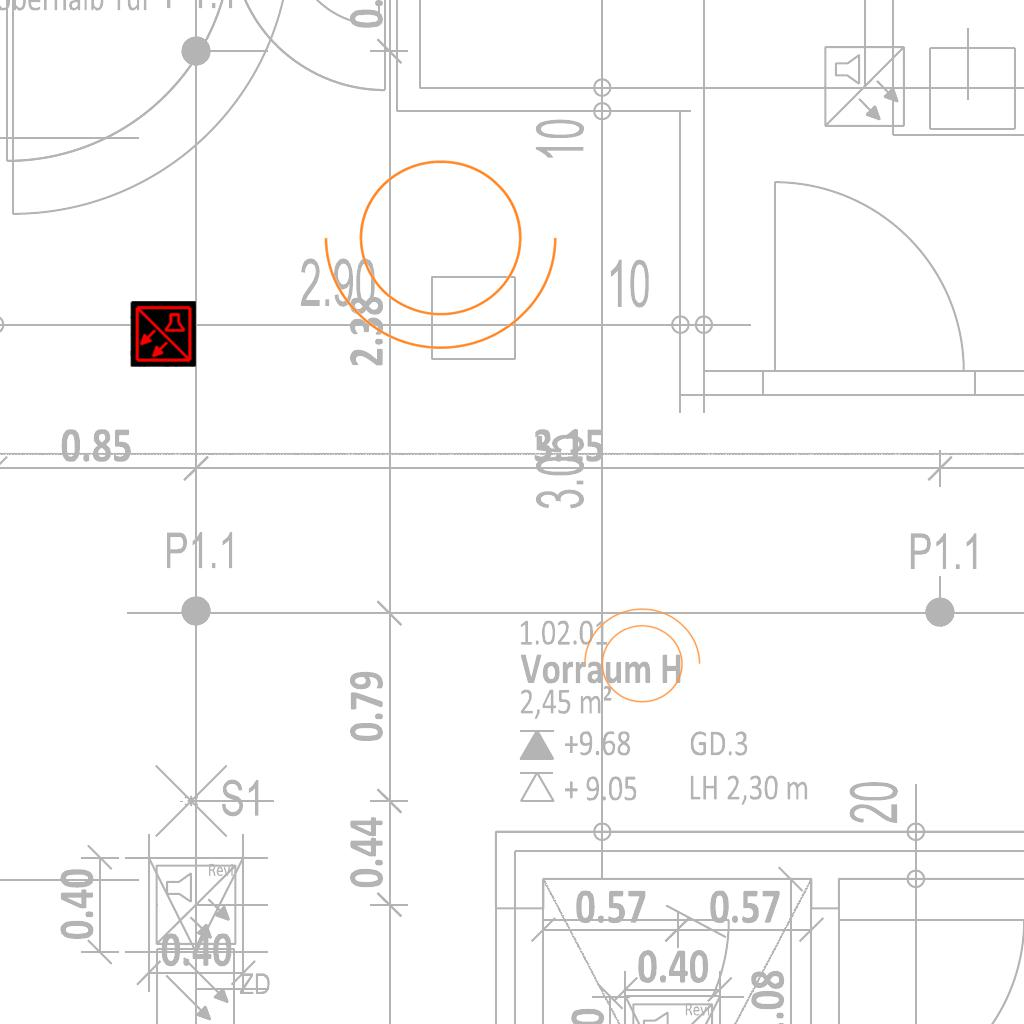OKW_Multisensormelder_(Kombination_optischer_Rauch-Kahlenmonoxid_Waerme-Melder): (130, 301, 196, 367)
Scheinwerfer_fuer_Alarmbeleuchtung: (315, 135, 579, 360), (573, 603, 705, 715)
